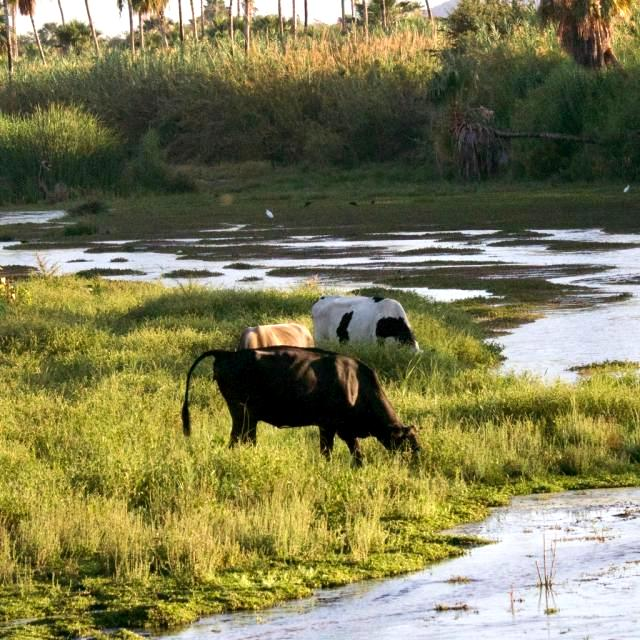COW: (181, 346, 419, 464)
